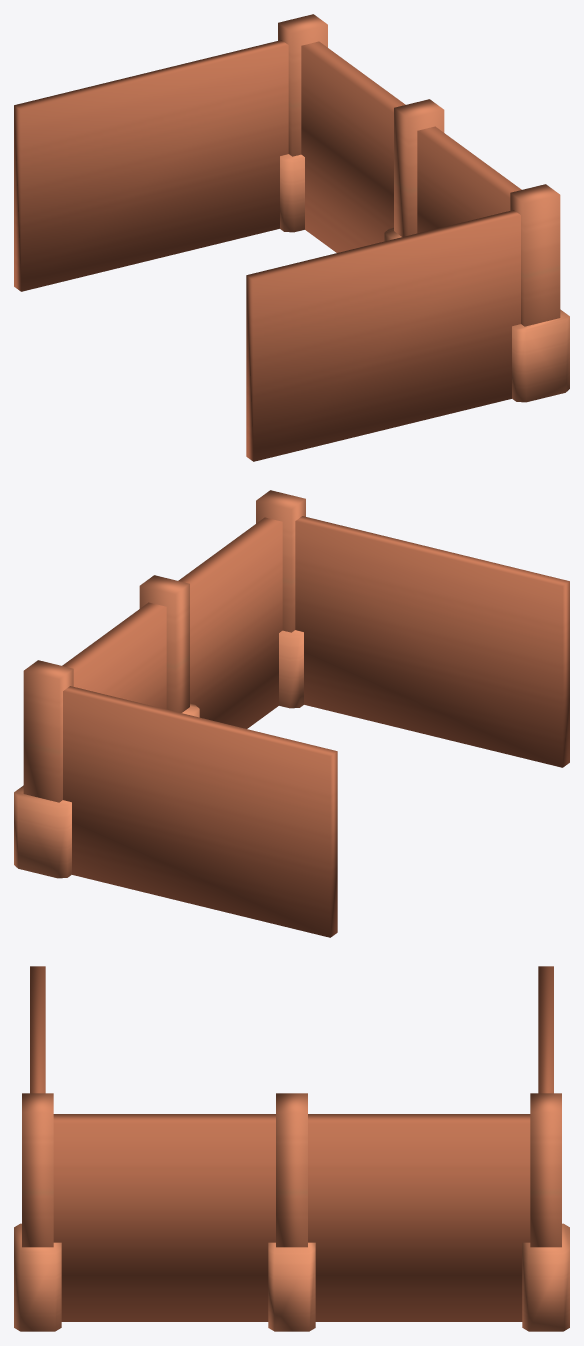
Rendered from n1_fence-1x2_lev1.glb.
The picture shows the model from 3 angles, top to bottom: view 1: azimuth 30°, elevation 25°; view 2: azimuth 150°, elevation 25°; view 3: azimuth 270°, elevation 25°; orthographic projection. The views are drawn at different scales.
Visible parts, largest first — view 1: n1_fence-1x2_lev1; view 2: n1_fence-1x2_lev1; view 3: n1_fence-1x2_lev1.
Boxes of the visible parts, x1,y1,x2,y2 form: n1_fence-1x2_lev1: [14, 14, 569, 461]; n1_fence-1x2_lev1: [14, 490, 569, 937]; n1_fence-1x2_lev1: [14, 966, 569, 1331].
Bounding box in the file's own units: 3.39 × 2.03 × 4.78.
1 material, 1 textured.
